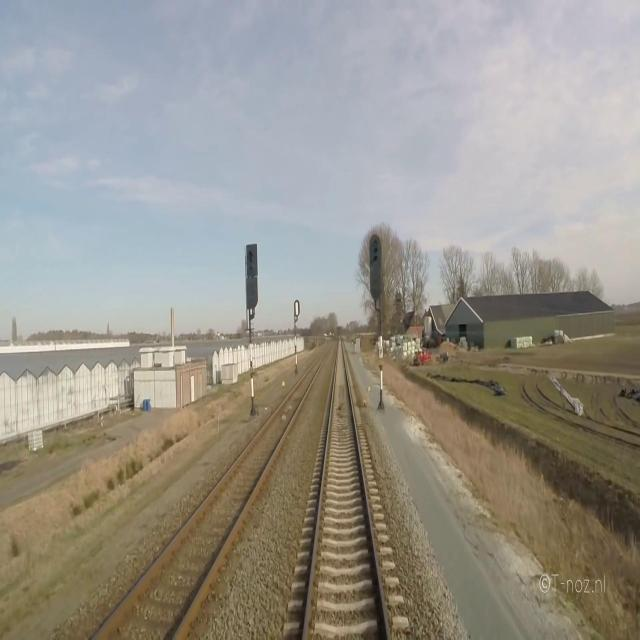rail-track: (98, 351, 326, 639), (307, 342, 385, 639)
